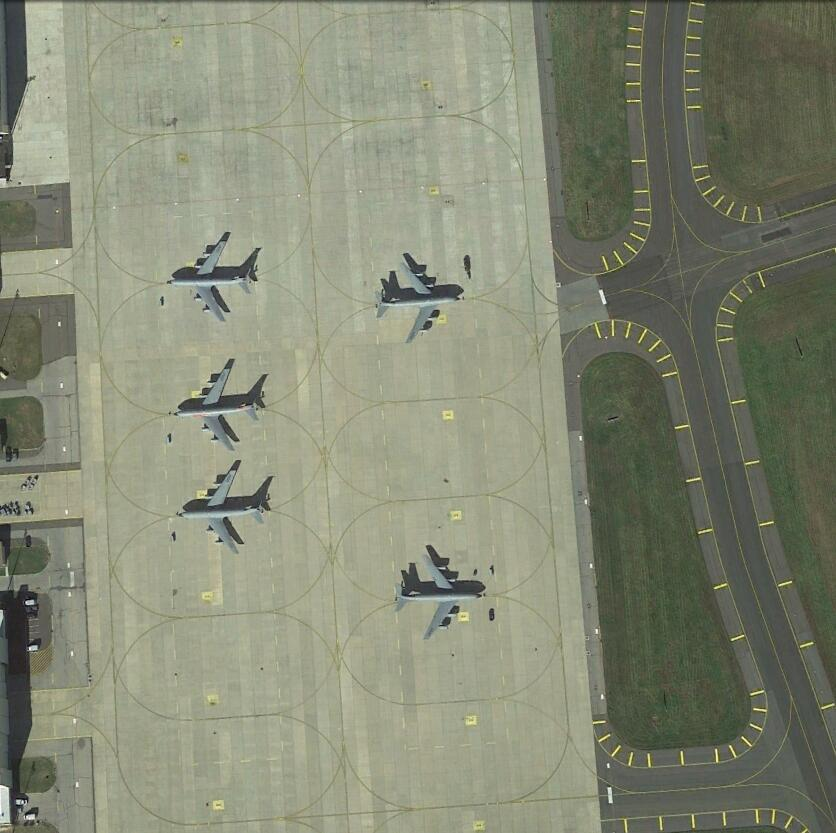A14: (174, 461, 274, 558), (176, 361, 267, 450), (168, 237, 259, 324), (393, 553, 484, 639), (374, 262, 460, 347)
